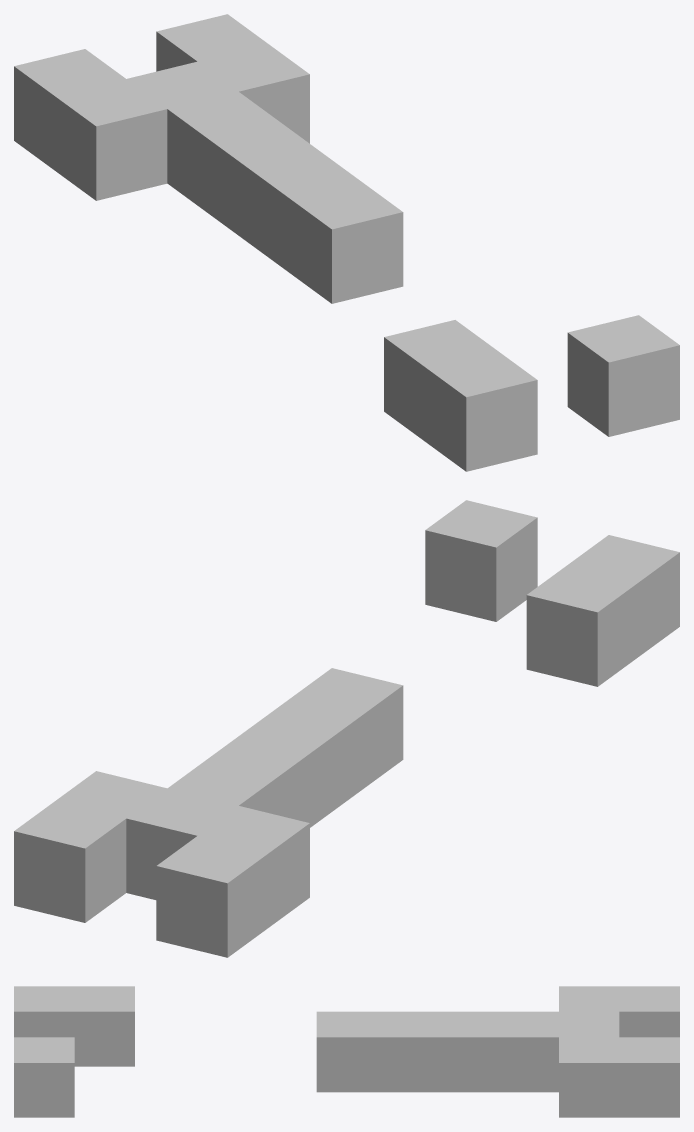
Rendered from Bones-1.obj.
3 views of the same model, one above another, from view 1: azimuth 30°, elevation 25°; view 2: azimuth 150°, elevation 25°; view 3: azimuth 270°, elevation 25° (orthographic). The views are drawn at different scales.
Bounding box in the file's own units: 0.3 × 0.1 × 1.1.
Materials: 1 (1 with a texture image).
